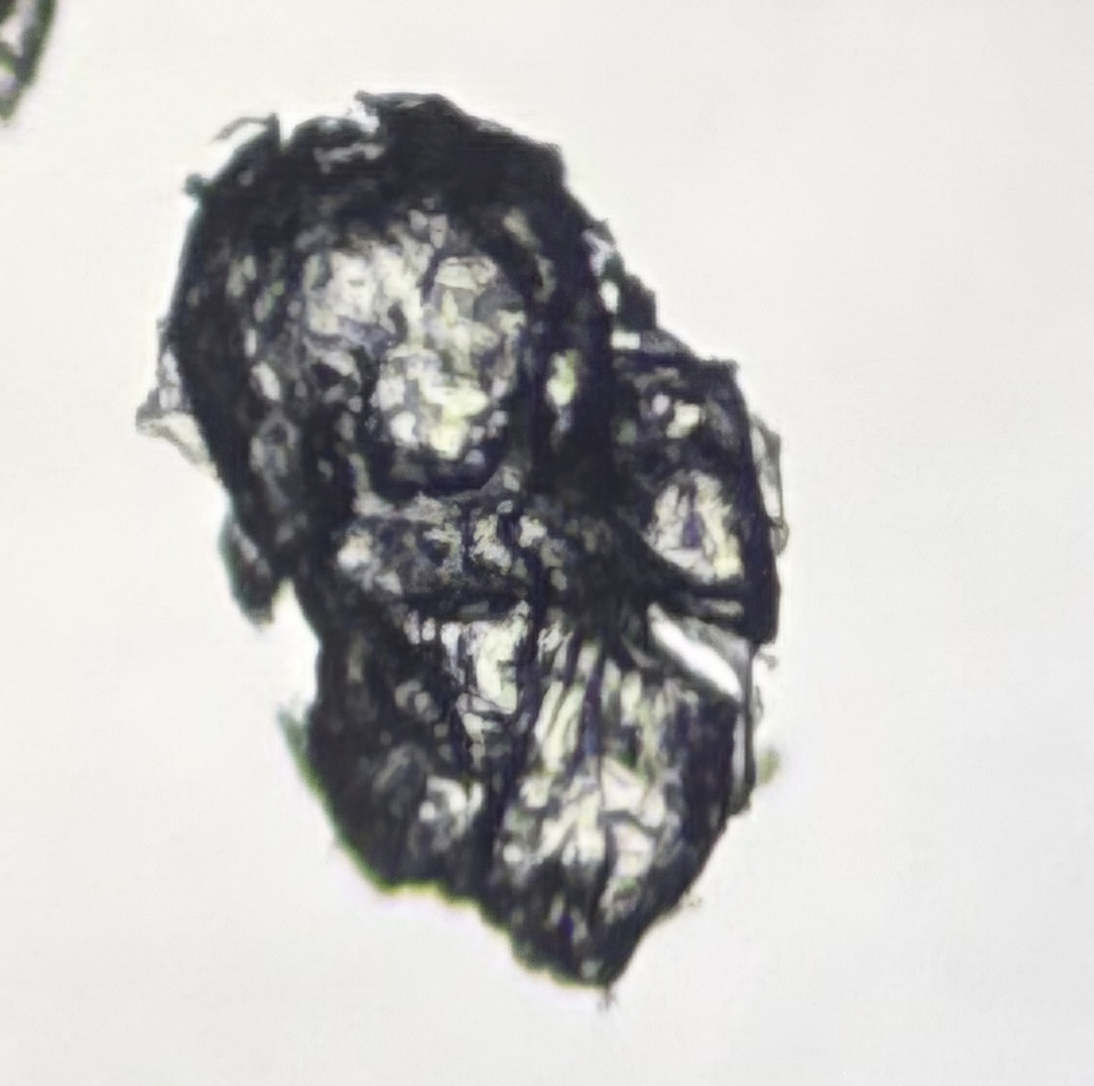microplastic: (135, 88, 791, 1008), (1, 1, 57, 124)
